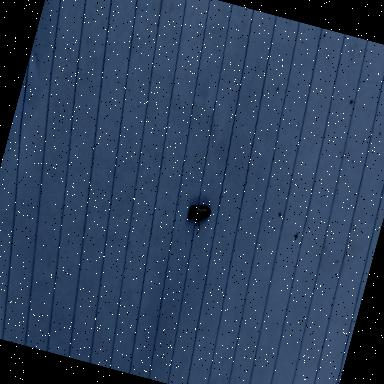pbw: (184, 202, 212, 234)
